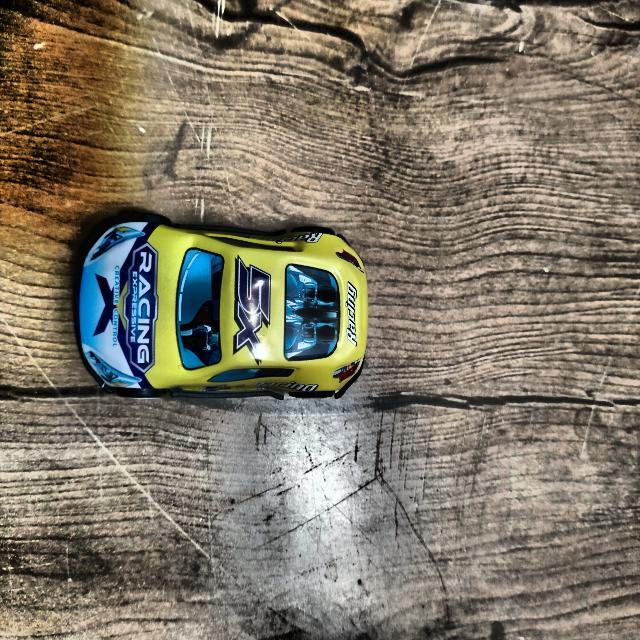Car: (78, 221, 368, 397)
